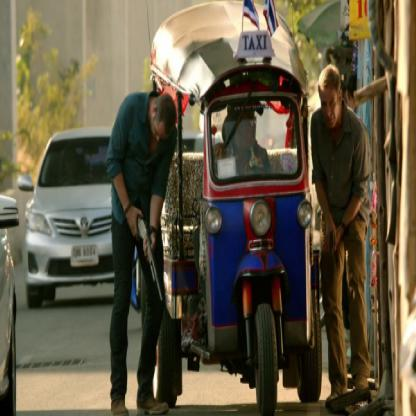Guns: (130, 203, 164, 303), (327, 226, 334, 272)
